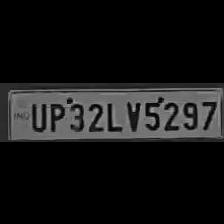2: (160, 97, 180, 131), (86, 98, 104, 132)
3: (66, 98, 84, 132)
5: (140, 96, 160, 130)
7: (199, 97, 217, 129)
9: (179, 97, 199, 130)
L: (104, 97, 122, 131)
P: (46, 98, 64, 132)
U: (27, 99, 46, 131)
V: (123, 96, 141, 132)
